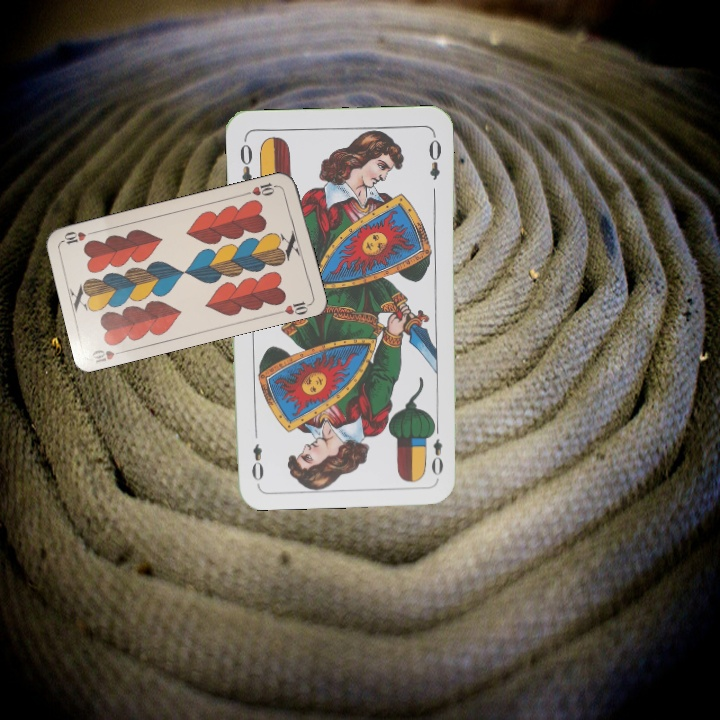EO: (426, 420, 446, 478), (235, 135, 255, 187)
H10: (87, 346, 129, 366), (242, 178, 282, 198)
